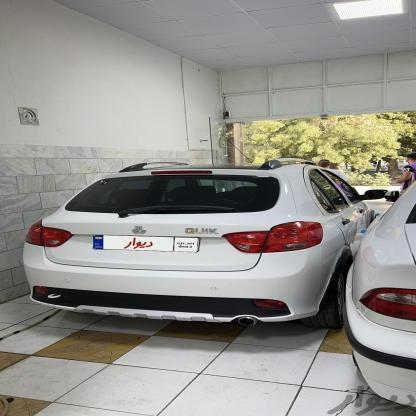Car: (13, 165, 363, 336), (328, 183, 416, 389)
